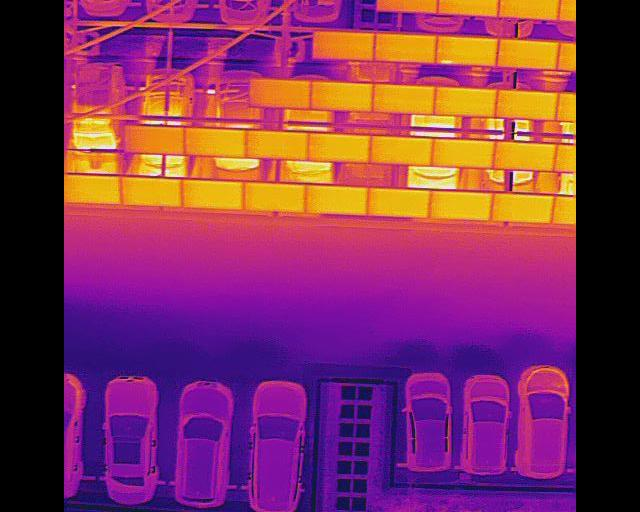Cell: (436, 34, 497, 64)
No-Anomaly: (120, 175, 183, 206), (249, 77, 312, 107), (182, 178, 245, 208), (305, 184, 369, 213), (375, 31, 436, 61), (307, 132, 370, 161), (492, 192, 554, 221), (247, 129, 308, 158), (64, 172, 121, 203), (496, 90, 559, 118), (371, 135, 431, 164), (432, 190, 492, 219), (184, 128, 246, 156), (368, 188, 430, 216), (244, 181, 305, 209), (124, 124, 185, 152), (433, 138, 494, 166), (498, 39, 559, 67), (313, 31, 374, 59), (495, 141, 556, 169), (311, 81, 374, 108), (373, 84, 435, 111), (437, 87, 496, 115), (501, 0, 560, 17), (439, 0, 499, 14), (376, 0, 439, 12)
